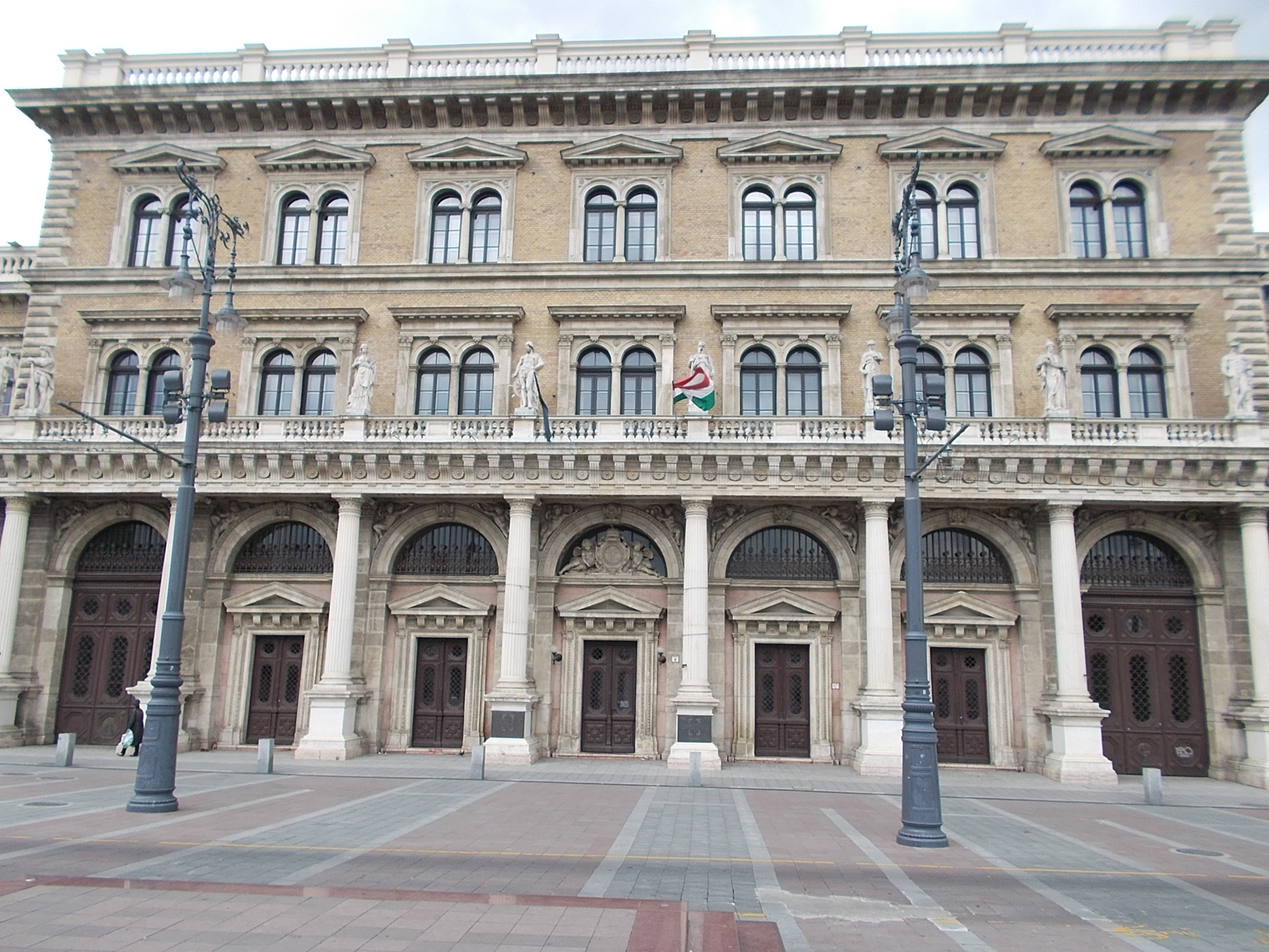fachada: (16, 37, 1269, 788)
poste: (100, 159, 256, 859), (841, 119, 981, 841)
